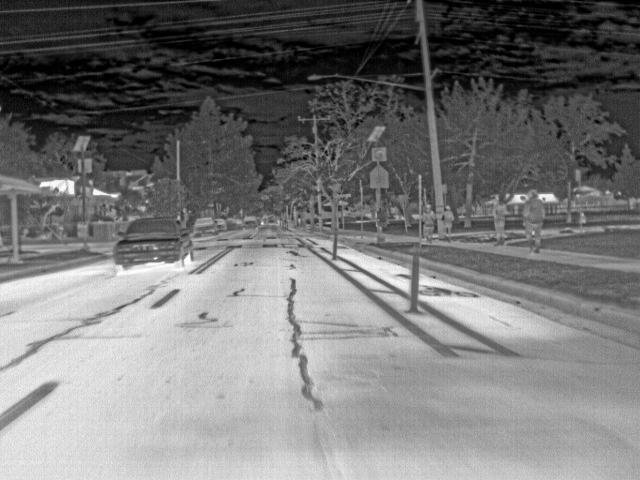car: (112, 216, 194, 272), (193, 218, 216, 236), (242, 213, 259, 228), (217, 218, 230, 232), (229, 218, 243, 230)
person: (522, 188, 546, 254), (492, 195, 506, 245), (420, 204, 435, 244), (440, 204, 455, 241)
